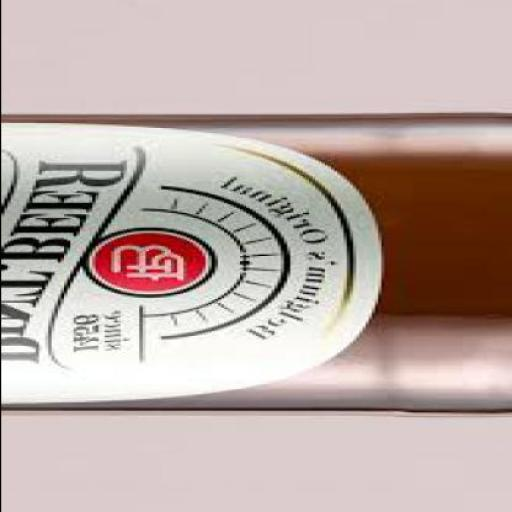glass: (2, 112, 511, 417)
